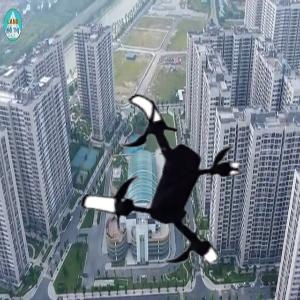drone: (64, 90, 253, 279)
